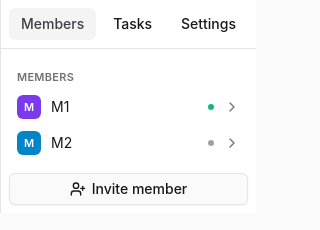
GroupRoster project › shows the no-project fallback (not clickable) when the group has no project
What coordinates should you click on to do the following:
click the button "Settings"
I would click on:
 (209, 24)
Its box is x1=169 y1=8 x2=248 y2=40.
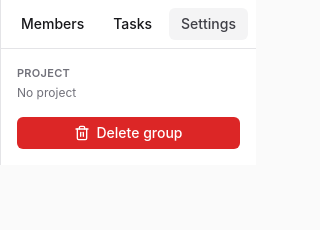
Check: the text "No project" is shown, box x1=17 y1=85 x2=76 y2=100
